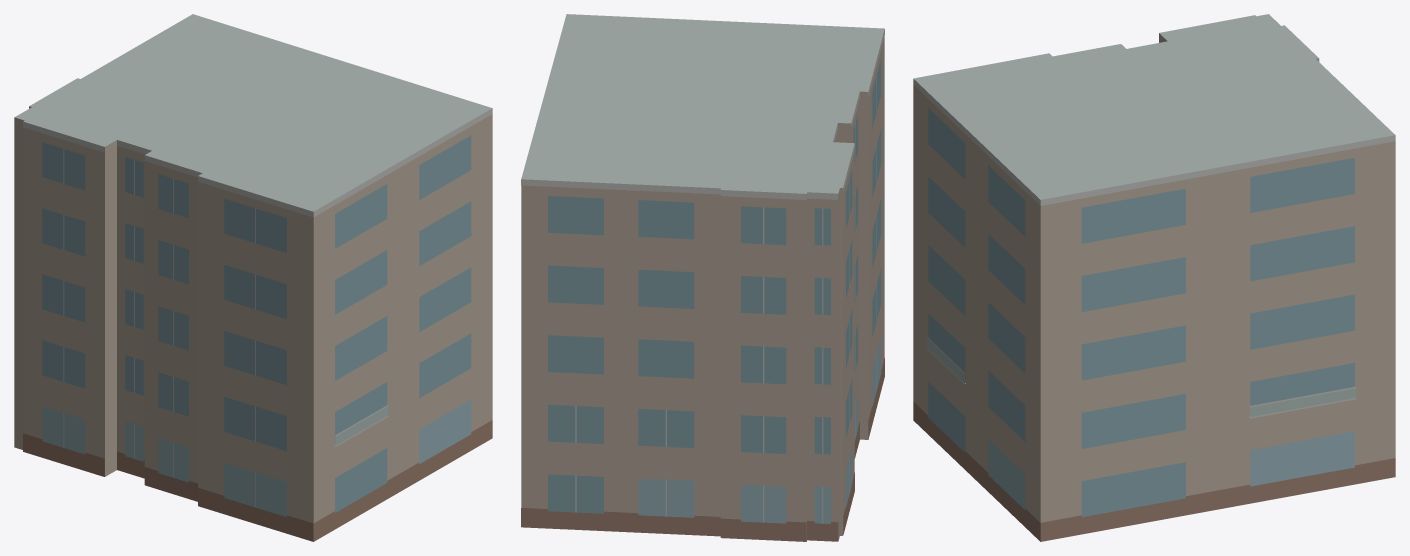
File: survey-upis-32721901.glb
3 renders of one model, left to right at view 1: azimuth 30°, elevation 25°; view 2: azimuth 150°, elevation 25°; view 3: azimuth 270°, elevation 25°, orthographic. The views are drawn at different scales.
Parts seen in each view (by area): view 1: survey-upis-32721901.tmp; view 2: survey-upis-32721901.tmp; view 3: survey-upis-32721901.tmp.
Part boxes in pixels (x1=…): survey-upis-32721901.tmp: x1=14, y1=14, x2=492, y2=541; survey-upis-32721901.tmp: x1=521, y1=14, x2=884, y2=541; survey-upis-32721901.tmp: x1=913, y1=14, x2=1395, y2=541.
Bounding box in the file's own units: 16.22 × 13.9 × 17.78.
